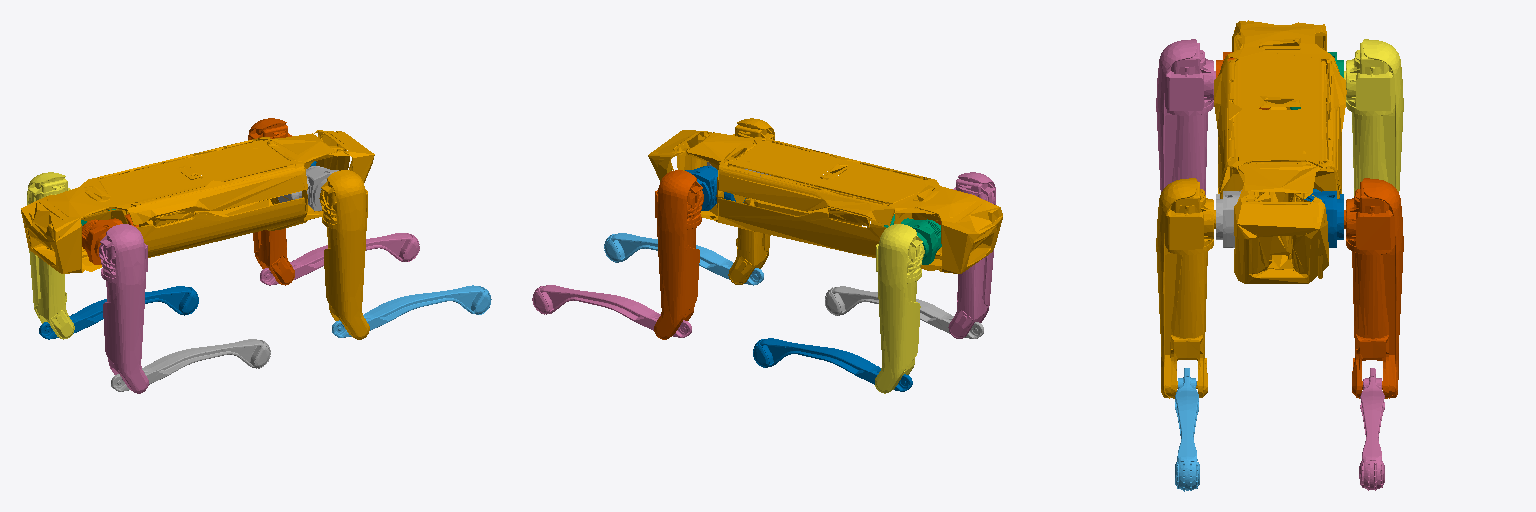
The robot description file, URDF, robot "spot":
<?xml version="1.0" ?>
<!-- =================================================================================== -->
<!-- |    This document was autogenerated by xacro from /tmp/claude-0/-home-claude/8f5dd28e-fe63-5f45-8f7e-d1a0395364a9/scratchpad/repos/spot/spot_description/urdf/spot.urdf.xacro | -->
<!-- |    EDITING THIS FILE BY HAND IS NOT RECOMMENDED                                 | -->
<!-- =================================================================================== -->
<!-- Copyright (c) 2025 Robotics and AI Institute LLC dba RAI Institute. All rights reserved. -->
<robot name="spot">
  <!-- General parameters -->
  ^M

  
  <link name="body">
    <visual>
      <geometry>
        <mesh filename="package://spot_description/meshes/base/visual/body.obj"/>
      </geometry>
    </visual>
    <collision>
      <geometry>
        <mesh filename="package://spot_description/meshes/base/collision/body_collision.obj"/>
      </geometry>
    </collision>
  </link>
  <link name="base_link">
    <inertial>
      <origin rpy="0.0 0.0 0.0" xyz="0.006394396536052227 -9.812158532440662e-05 0.0009113792330026627"/>
      <mass value="32.86"/>
      <inertia ixx="0.13143999874591827" ixy="0.0" ixz="0.0" iyy="0.13143999874591827" iyz="0.0" izz="0.13143999874591827"/>
    </inertial>
  </link>
  <joint name="base_link_joint" type="fixed">
    <origin rpy="0 0 0" xyz="0 0 0"/>
    <parent link="body"/>
    <child link="base_link"/>
  </joint>
  <link name="front_rail">
    <inertial>
      <origin rpy="0. 0. 0." xyz="0. 0. 0."/>
      <mass value="1.0e-6"/>
      <inertia ixx="1.0e-9" ixy="0.0" ixz="0.0" iyy="1.0e-9" iyz="0.0" izz="1.0e-9"/>
    </inertial>
  </link>
  <joint name="front_rail_joint" type="fixed">
    <origin rpy="0 0 0" xyz="0.223 0 0.0805"/>
    <parent link="body"/>
    <child link="front_rail"/>
  </joint>
  <link name="rear_rail">
    <inertial>
      <origin rpy="0. 0. 0." xyz="0. 0. 0."/>
      <mass value="1.0e-6"/>
      <inertia ixx="1.0e-9" ixy="0.0" ixz="0.0" iyy="1.0e-9" iyz="0.0" izz="1.0e-9"/>
    </inertial>
  </link>
  <joint name="rear_rail_joint" type="fixed">
    <origin rpy="0 0 0" xyz="-0.223 0 0.0805"/>
    <parent link="body"/>
    <child link="rear_rail"/>
  </joint>
  <link name="front_left_hip">
    <visual>
      <geometry>
        <mesh filename="package://spot_description/meshes/base/visual/front_left_hip.obj"/>
      </geometry>
    </visual>
    <inertial>
      <origin rpy="-0.716521349312305 0.02956473059648479 0.03655230014702582" xyz="-0.005374345928430557 0.012841847725212574 9.875232353806496e-05"/>
      <mass value="1.68"/>
      <inertia ixx="0.0021147398873455382" ixy="0.0" ixz="0.0" iyy="0.0018129577956607131" iyz="0.0" izz="0.002265435737304666"/>
    </inertial>
  </link>
  <joint name="front_left_hip_x" type="revolute">
    <origin rpy="0 0 0" xyz="0.29785 0.05500 0.00000"/>
    <axis xyz="1 0 0"/>
    <parent link="body"/>
    <child link="front_left_hip"/>
    <limit effort="45" lower="-0.78539816339744827899" upper="0.78539816339744827899" velocity="17.647"/>
  </joint>
  <link name="front_left_upper_leg">
    <visual>
      <geometry>
        <mesh filename="package://spot_description/meshes/base/visual/front_left_upper_leg.obj"/>
      </geometry>
    </visual>
    <collision>
      <geometry>
        <mesh filename="package://spot_description/meshes/base/collision/left_upper_leg_collision.obj"/>
      </geometry>
    </collision>
    <inertial>
      <origin rpy="-0.26437828203369795 -0.04853174570753804 0.024046963096353124" xyz="0.005142373498529196 -0.0024323679972440004 -0.12100915610790253"/>
      <mass value="2.34"/>
      <inertia ixx="0.02755964961185679" ixy="0.0" ixz="0.0" iyy="0.027354914287651046" iyz="0.0" izz="0.002848145546743553"/>
    </inertial>
  </link>
  <joint name="front_left_hip_y" type="revolute">
    <origin rpy="0 0 0" xyz="0.0 0.110945 0.0"/>
    <axis xyz="0 1 0"/>
    <parent link="front_left_hip"/>
    <child link="front_left_upper_leg"/>
    <limit effort="45" lower="-0.89884456477707963539" upper="2.2951079663725435509" velocity="17.647"/>
  </joint>
  <link name="front_left_lower_leg">
    <visual>
      <geometry>
        <mesh filename="package://spot_description/meshes/base/visual/front_left_lower_leg.obj"/>
      </geometry>
    </visual>
    <collision>
      <geometry>
        <mesh filename="package://spot_description/meshes/base/collision/left_lower_leg_collision.obj"/>
      </geometry>
    </collision>
    <collision>
      <origin rpy="0 0 0" xyz="0.0 0.0 -0.3365"/>
      <geometry>
        <sphere radius="0.036"/>
      </geometry>
    </collision>
    <inertial>
      <origin rpy="-0.007266925694167092 -0.009591807116834161 0.00035255970529224356" xyz="0.00225794012658298 4.607596201822162e-05 -0.1800822913646698"/>
      <mass value="0.35"/>
      <inertia ixx="0.003999022654901177" ixy="0.0" ixz="0.0" iyy="0.0040503157598010785" iyz="0.0" izz="0.0001493402097647426"/>
    </inertial>
  </link>
  <frame link="front_left_lower_leg" name="front_left_foot_center" xyz="0.0 0.0 -0.3365"/>
  <joint name="front_left_knee" type="revolute">
    <origin rpy="0 0 0" xyz="0.025 0.000 -0.3205"/>
    <axis xyz="0 1 0"/>
    <parent link="front_left_upper_leg"/>
    <child link="front_left_lower_leg"/>
    <limit effort="115" lower="-2.7929" upper="-0.254801" velocity="12.0"/>
  </joint>
  <link name="front_right_hip">
    <visual>
      <geometry>
        <mesh filename="package://spot_description/meshes/base/visual/front_right_hip.obj"/>
      </geometry>
    </visual>
    <inertial>
      <origin rpy="0.7165213493123055 -0.02956473059648479 0.03655230014702582" xyz="-0.005374345928430557 -0.012841847725212574 -9.875232353806496e-05"/>
      <mass value="1.68"/>
      <inertia ixx="0.0021147398873455382" ixy="0.0" ixz="0.0" iyy="0.0018129577956607131" iyz="0.0" izz="0.002265435737304666"/>
    </inertial>
  </link>
  <joint name="front_right_hip_x" type="revolute">
    <origin rpy="0 0 0" xyz="0.29785 -0.05500 0.00000"/>
    <axis xyz="1 0 0"/>
    <parent link="body"/>
    <child link="front_right_hip"/>
    <limit effort="45" lower="-0.78539816339744827899" upper="0.78539816339744827899" velocity="17.647"/>
  </joint>
  <link name="front_right_upper_leg">
    <visual>
      <geometry>
        <mesh filename="package://spot_description/meshes/base/visual/front_right_upper_leg.obj"/>
      </geometry>
    </visual>
    <collision>
      <geometry>
        <mesh filename="package://spot_description/meshes/base/collision/right_upper_leg_collision.obj"/>
      </geometry>
    </collision>
    <inertial>
      <origin rpy="0.2643905306958363 -0.04853174688302708 -0.024046943559834943" xyz="0.005142373498529196 0.0024323677644133568 -0.12100915610790253"/>
      <mass value="2.34"/>
      <inertia ixx="0.02755964678927691" ixy="0.0" ixz="0.0" iyy="0.02735491706466737" iyz="0.0" izz="0.0028481453594764797"/>
    </inertial>
  </link>
  <joint name="front_right_hip_y" type="revolute">
    <origin rpy="0 0 0" xyz="0.0 -0.110945 0.0"/>
    <axis xyz="0 1 0"/>
    <parent link="front_right_hip"/>
    <child link="front_right_upper_leg"/>
    <limit effort="45" lower="-0.89884456477707963539" upper="2.2951079663725435509" velocity="17.647"/>
  </joint>
  <link name="front_right_lower_leg">
    <visual>
      <geometry>
        <mesh filename="package://spot_description/meshes/base/visual/front_right_lower_leg.obj"/>
      </geometry>
    </visual>
    <collision>
      <geometry>
        <mesh filename="package://spot_description/meshes/base/collision/right_lower_leg_collision.obj"/>
      </geometry>
    </collision>
    <collision>
      <origin rpy="0 0 0" xyz="0.0 0.0 -0.3365"/>
      <geometry>
        <sphere radius="0.036"/>
      </geometry>
    </collision>
    <inertial>
      <origin rpy="-0.007266925694167092 -0.009591807116834161 0.00035255970529224356" xyz="0.00225794012658298 4.607596201822162e-05 -0.1800822913646698"/>
      <mass value="0.35"/>
      <inertia ixx="0.003999022654901177" ixy="0.0" ixz="0.0" iyy="0.0040503157598010785" iyz="0.0" izz="0.0001493402097647426"/>
    </inertial>
  </link>
  <frame link="front_right_lower_leg" name="front_right_foot_center" xyz="0.0 0.0 -0.3365"/>
  <joint name="front_right_knee" type="revolute">
    <origin rpy="0 0 0" xyz="0.025 0.000 -0.3205"/>
    <axis xyz="0 1 0"/>
    <parent link="front_right_upper_leg"/>
    <child link="front_right_lower_leg"/>
    <limit effort="115" lower="-2.7929" upper="-0.247563" velocity="12.0"/>
  </joint>
  <link name="rear_left_hip">
    <visual>
      <geometry>
        <mesh filename="package://spot_description/meshes/base/visual/rear_left_hip.obj"/>
      </geometry>
    </visual>
    <inertial>
      <origin rpy="0.7165213493123055 -0.02956473059648479 0.03655230014702582" xyz="-0.005374345928430557 -0.012841847725212574 -9.875232353806496e-05"/>
      <mass value="1.68"/>
      <inertia ixx="0.0021147398873455382" ixy="0.0" ixz="0.0" iyy="0.0018129577956607131" iyz="0.0" izz="0.002265435737304666"/>
    </inertial>
  </link>
  <joint name="rear_left_hip_x" type="revolute">
    <origin rpy="0 0 0" xyz="-0.29785 0.05500 0.00000"/>
    <axis xyz="1 0 0"/>
    <parent link="body"/>
    <child link="rear_left_hip"/>
    <limit effort="45" lower="-0.78539816339744827899" upper="0.78539816339744827899" velocity="17.647"/>
  </joint>
  <link name="rear_left_upper_leg">
    <visual>
      <geometry>
        <mesh filename="package://spot_description/meshes/base/visual/rear_left_upper_leg.obj"/>
      </geometry>
    </visual>
    <collision>
      <geometry>
        <mesh filename="package://spot_description/meshes/base/collision/left_upper_leg_collision.obj"/>
      </geometry>
    </collision>
    <inertial>
      <origin rpy="-0.26437828203369795 -0.04853174570753804 0.024046963096353124" xyz="0.005142373498529196 -0.0024323679972440004 -0.12100915610790253"/>
      <mass value="2.34"/>
      <inertia ixx="0.02755964961185679" ixy="0.0" ixz="0.0" iyy="0.027354914287651046" iyz="0.0" izz="0.002848145546743553"/>
    </inertial>
  </link>
  <joint name="rear_left_hip_y" type="revolute">
    <origin rpy="0 0 0" xyz="0.0 0.110945 0.0"/>
    <axis xyz="0 1 0"/>
    <parent link="rear_left_hip"/>
    <child link="rear_left_upper_leg"/>
    <limit effort="45" lower="-0.89884456477707963539" upper="2.2951079663725435509" velocity="17.647"/>
  </joint>
  <link name="rear_left_lower_leg">
    <visual>
      <geometry>
        <mesh filename="package://spot_description/meshes/base/visual/rear_left_lower_leg.obj"/>
      </geometry>
    </visual>
    <collision>
      <geometry>
        <mesh filename="package://spot_description/meshes/base/collision/left_lower_leg_collision.obj"/>
      </geometry>
    </collision>
    <collision>
      <origin rpy="0 0 0" xyz="0.0 0.0 -0.3365"/>
      <geometry>
        <sphere radius="0.036"/>
      </geometry>
    </collision>
    <inertial>
      <origin rpy="-0.007266925694167092 -0.009591807116834161 0.00035255970529224356" xyz="0.00225794012658298 4.607596201822162e-05 -0.1800822913646698"/>
      <mass value="0.35"/>
      <inertia ixx="0.003999022654901177" ixy="0.0" ixz="0.0" iyy="0.0040503157598010785" iyz="0.0" izz="0.0001493402097647426"/>
    </inertial>
  </link>
  <frame link="rear_left_lower_leg" name="rear_left_foot_center" xyz="0.0 0.0 -0.3365"/>
  <joint name="rear_left_knee" type="revolute">
    <origin rpy="0 0 0" xyz="0.025 0.000 -0.3205"/>
    <axis xyz="0 1 0"/>
    <parent link="rear_left_upper_leg"/>
    <child link="rear_left_lower_leg"/>
    <limit effort="115" lower="-2.7929" upper="-0.267153" velocity="12.0"/>
  </joint>
  <link name="rear_right_hip">
    <visual>
      <geometry>
        <mesh filename="package://spot_description/meshes/base/visual/rear_right_hip.obj"/>
      </geometry>
    </visual>
    <inertial>
      <origin rpy="0.7165213493123055 -0.02956473059648479 0.03655230014702582" xyz="-0.005374345928430557 -0.012841847725212574 -9.875232353806496e-05"/>
      <mass value="1.68"/>
      <inertia ixx="0.0021147398873455382" ixy="0.0" ixz="0.0" iyy="0.0018129577956607131" iyz="0.0" izz="0.002265435737304666"/>
    </inertial>
  </link>
  <joint name="rear_right_hip_x" type="revolute">
    <origin rpy="0 0 0" xyz="-0.29785 -0.05500 0.00000"/>
    <axis xyz="1 0 0"/>
    <parent link="body"/>
    <child link="rear_right_hip"/>
    <limit effort="45" lower="-0.78539816339744827899" upper="0.78539816339744827899" velocity="17.647"/>
  </joint>
  <link name="rear_right_upper_leg">
    <visual>
      <geometry>
        <mesh filename="package://spot_description/meshes/base/visual/rear_right_upper_leg.obj"/>
      </geometry>
    </visual>
    <collision>
      <geometry>
        <mesh filename="package://spot_description/meshes/base/collision/right_upper_leg_collision.obj"/>
      </geometry>
    </collision>
    <inertial>
      <origin rpy="0.2643905306958363 -0.04853174688302708 -0.024046943559834943" xyz="0.005142373498529196 0.0024323677644133568 -0.12100915610790253"/>
      <mass value="2.34"/>
      <inertia ixx="0.02755964678927691" ixy="0.0" ixz="0.0" iyy="0.02735491706466737" iyz="0.0" izz="0.0028481453594764797"/>
    </inertial>
  </link>
  <joint name="rear_right_hip_y" type="revolute">
    <origin rpy="0 0 0" xyz="0.0 -0.110945 0.0"/>
    <axis xyz="0 1 0"/>
    <parent link="rear_right_hip"/>
    <child link="rear_right_upper_leg"/>
    <limit effort="45" lower="-0.89884456477707963539" upper="2.2951079663725435509" velocity="17.647"/>
  </joint>
  <link name="rear_right_lower_leg">
    <visual>
      <geometry>
        <mesh filename="package://spot_description/meshes/base/visual/rear_right_lower_leg.obj"/>
      </geometry>
    </visual>
    <collision>
      <geometry>
        <mesh filename="package://spot_description/meshes/base/collision/right_lower_leg_collision.obj"/>
      </geometry>
    </collision>
    <collision>
      <origin rpy="0 0 0" xyz="0.0 0.0 -0.3365"/>
      <geometry>
        <sphere radius="0.036"/>
      </geometry>
    </collision>
    <inertial>
      <origin rpy="-0.007266925694167092 -0.009591807116834161 0.00035255970529224356" xyz="0.00225794012658298 4.607596201822162e-05 -0.1800822913646698"/>
      <mass value="0.35"/>
      <inertia ixx="0.003999022654901177" ixy="0.0" ixz="0.0" iyy="0.0040503157598010785" iyz="0.0" izz="0.0001493402097647426"/>
    </inertial>
  </link>
  <frame link="rear_right_lower_leg" name="rear_right_foot_center" xyz="0.0 0.0 -0.3365"/>
  <joint name="rear_right_knee" type="revolute">
    <origin rpy="0 0 0" xyz="0.025 0.000 -0.3205"/>
    <axis xyz="0 1 0"/>
    <parent link="rear_right_upper_leg"/>
    <child link="rear_right_lower_leg"/>
    <limit effort="115" lower="-2.7929" upper="-0.257725" velocity="12.0"/>
  </joint>
  <!-- Optional custom includes. -->
  <!-- This file is a placeholder which is included by default from
       spot.urdf.xacro. If a robot is being customized and requires
       additional URDF, set the SPOT_URDF_EXTRAS environment variable
       to the full path of the file you would like included. -->
</robot>

--- Render facts (derived) ---
3 views of the same robot in one strip: view 1: azimuth 30°, elevation 25°; view 2: azimuth 150°, elevation 25°; view 3: azimuth 270°, elevation 25° (orthographic).
Model spot with 16 links and 15 joints (12 revolute, 3 fixed), rooted at body, posed all joints at 0 but 4 set to mid-range because 0 is outside their limits (front_left_knee = -1.52, front_right_knee = -1.52, rear_left_knee = -1.53, rear_right_knee = -1.53).
Links seen in each view (by area): view 1: body, rear_right_upper_leg, front_right_upper_leg, rear_left_upper_leg, rear_right_lower_leg, front_right_lower_leg, front_left_upper_leg, front_left_lower_leg, rear_left_lower_leg, rear_right_hip, front_right_hip; view 2: body, front_left_upper_leg, rear_left_upper_leg, rear_right_upper_leg, rear_left_lower_leg, front_left_lower_leg, front_right_upper_leg, front_right_lower_leg, rear_right_lower_leg, rear_left_hip, front_left_hip; view 3: body, front_left_upper_leg, front_right_upper_leg, rear_left_upper_leg, rear_right_upper_leg, front_left_lower_leg, front_right_lower_leg, front_left_hip, front_right_hip.
Link boxes in pixels (x1,y1,x2,y2): body: (21, 130, 374, 273); rear_right_upper_leg: (99, 224, 148, 393); front_right_upper_leg: (319, 170, 369, 339); rear_left_upper_leg: (27, 172, 74, 339); rear_right_lower_leg: (111, 339, 270, 391); front_right_lower_leg: (332, 285, 491, 337); front_left_upper_leg: (248, 118, 294, 285); front_left_lower_leg: (260, 233, 419, 285); rear_left_lower_leg: (39, 286, 198, 339); rear_right_hip: (82, 214, 138, 264); front_right_hip: (278, 166, 338, 210); body: (648, 130, 1002, 273); front_left_upper_leg: (654, 170, 703, 339); rear_left_upper_leg: (875, 224, 924, 393); rear_right_upper_leg: (948, 172, 995, 338); rear_left_lower_leg: (753, 338, 912, 391); front_left_lower_leg: (532, 285, 691, 337); front_right_upper_leg: (728, 118, 774, 284); front_right_lower_leg: (604, 233, 763, 285); rear_right_lower_leg: (825, 286, 983, 338); rear_left_hip: (884, 214, 941, 264); front_left_hip: (685, 166, 745, 210); body: (1214, 20, 1346, 283); front_left_upper_leg: (1344, 178, 1403, 398); front_right_upper_leg: (1156, 178, 1215, 398); rear_left_upper_leg: (1344, 39, 1403, 195); rear_right_upper_leg: (1156, 39, 1215, 194); front_left_lower_leg: (1359, 368, 1384, 490); front_right_lower_leg: (1175, 368, 1199, 491); front_left_hip: (1304, 189, 1343, 247); front_right_hip: (1216, 190, 1241, 247).
Size in the robot's own frame: 1.12 by 0.4489 by 0.466 metres.
Meshes: 13 distinct files referenced, 13 mesh visuals loaded (13 OBJ).
